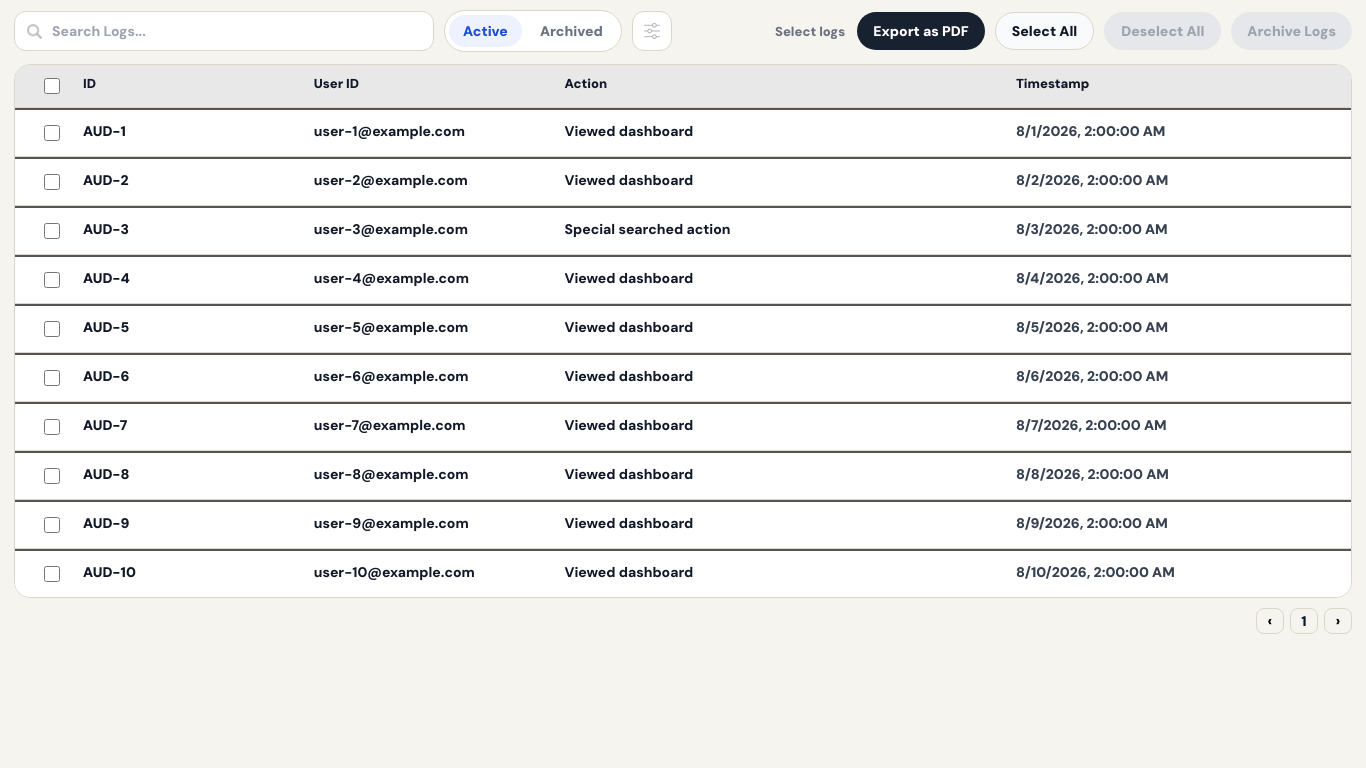
it: AdminAuditLogs selection › Deselect All clears active selections across pages
The width and height of the screenshot is (1366, 768).
What coordinates should you click on to do the following:
click the checkbox named "Select audit log AUD-1"
I would click on:
 (52, 133)
Its box is [44,125,60,141].
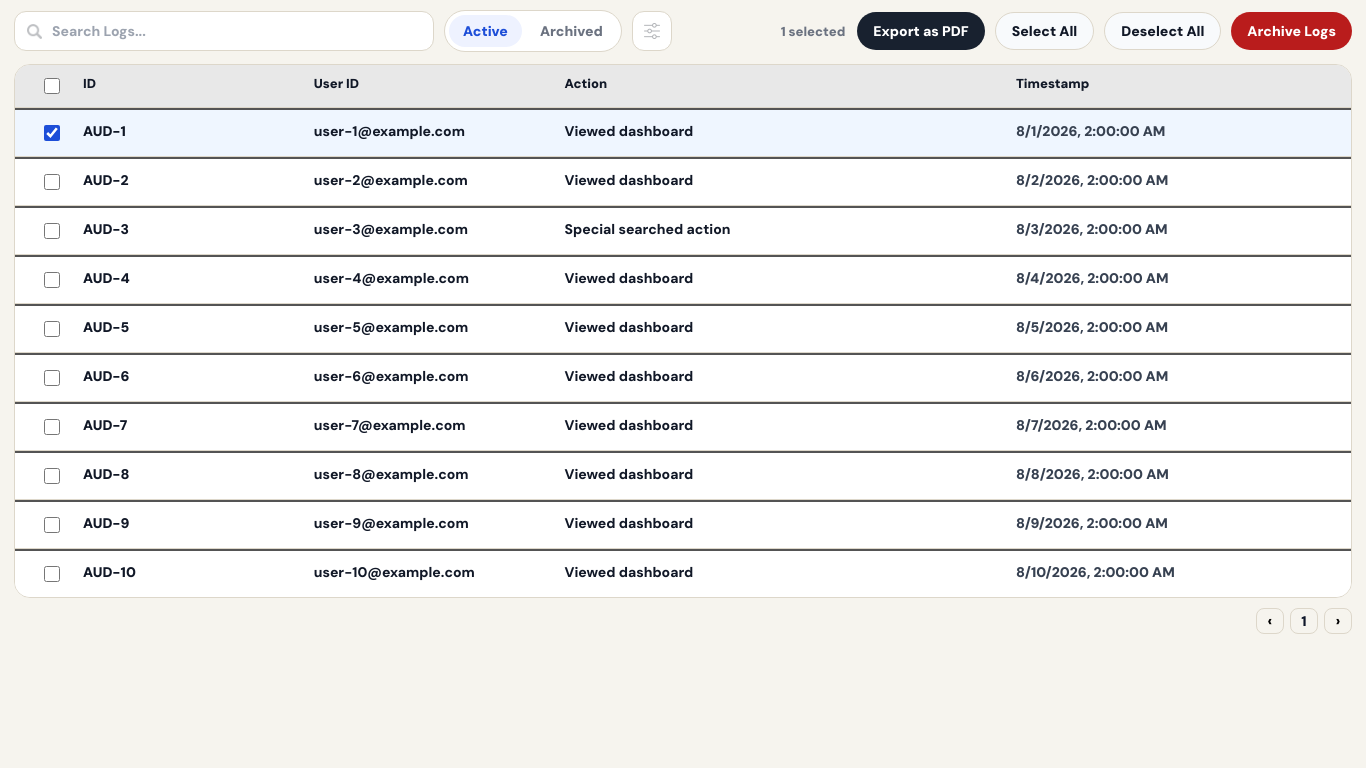
What coordinates should you click on to do the following:
click the button "›"
I would click on:
 (1338, 621)
Its box is [1324,608,1352,634].
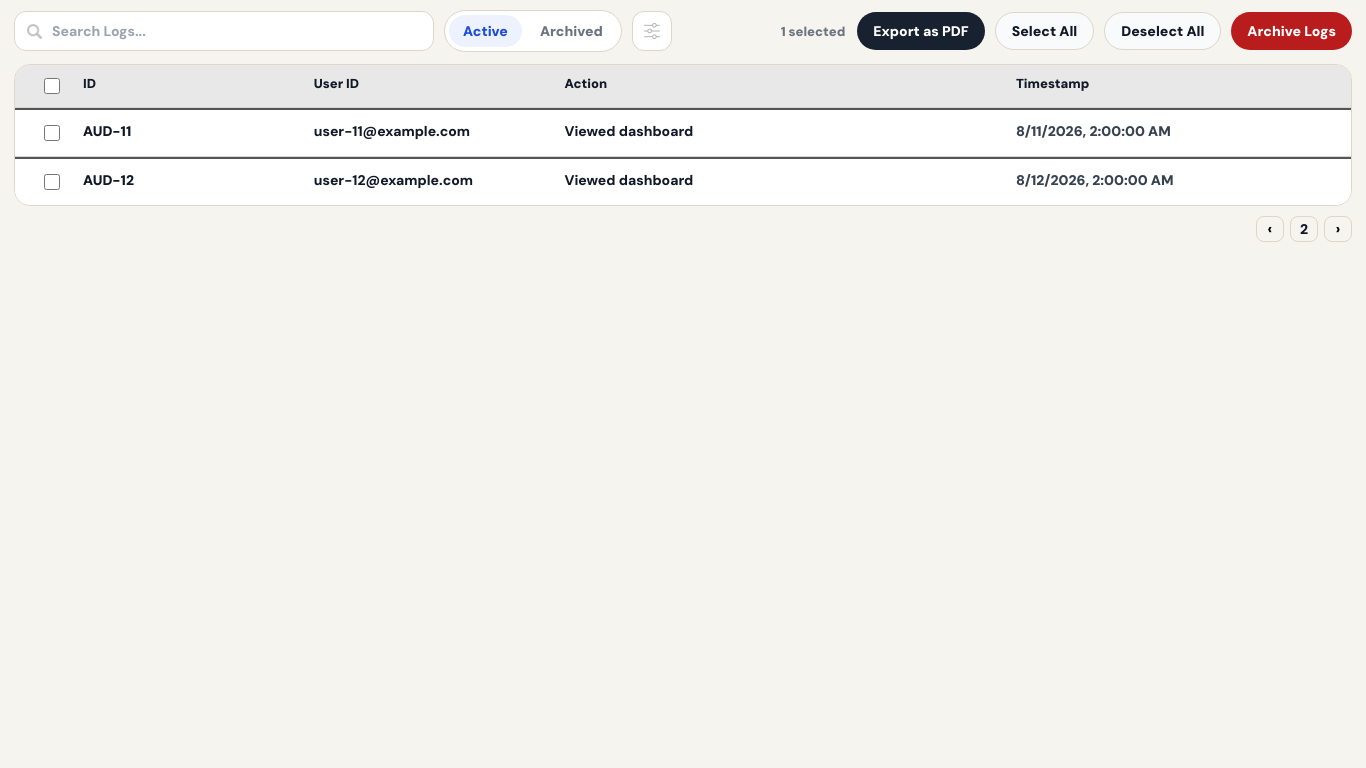
What coordinates should you click on to do the following:
click the checkbox named "Select audit log AUD-11"
I would click on:
 (52, 133)
Its box is [44,125,60,141].
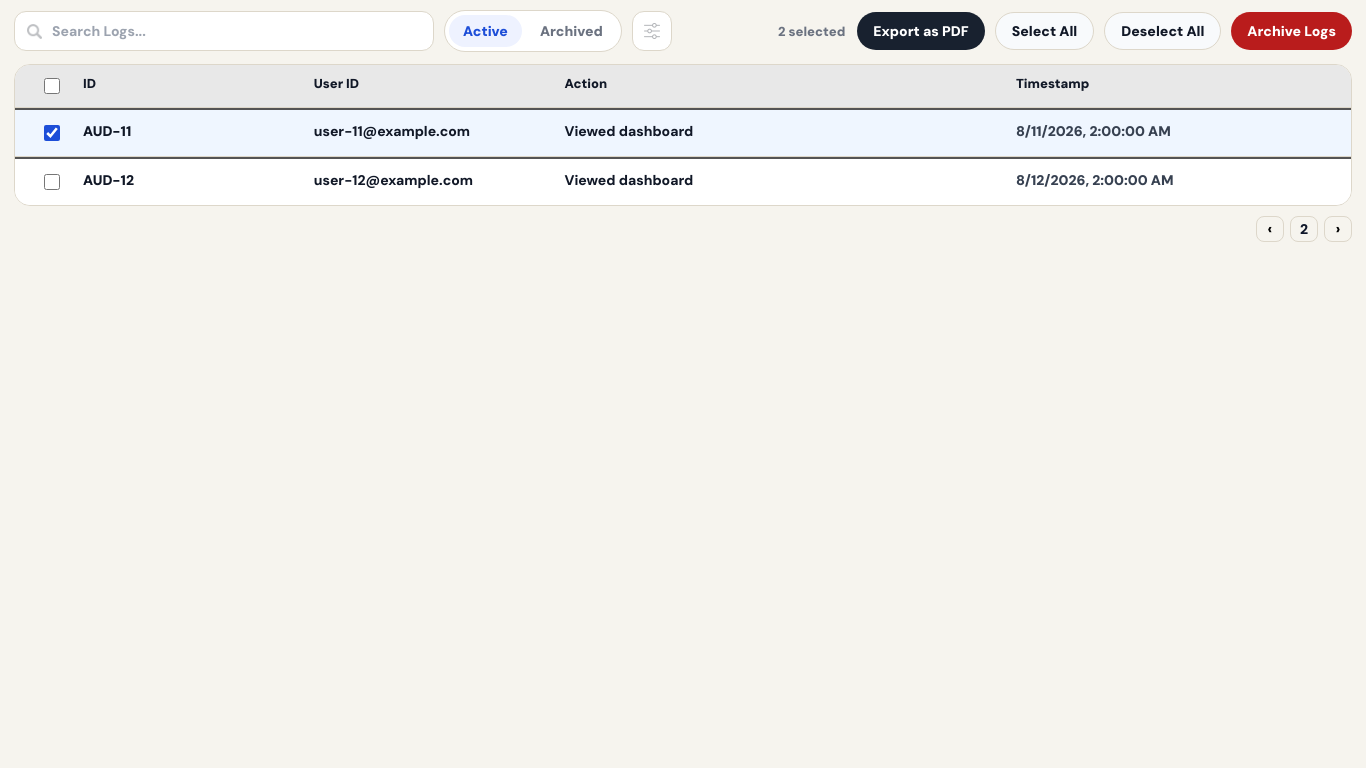
Check: the text "2 selected" is shown, box [778,22,845,40]
What coordinates should you click on to do the following:
click the button "Deselect All"
I would click on:
 (1163, 31)
Its box is [1104,12,1221,50].
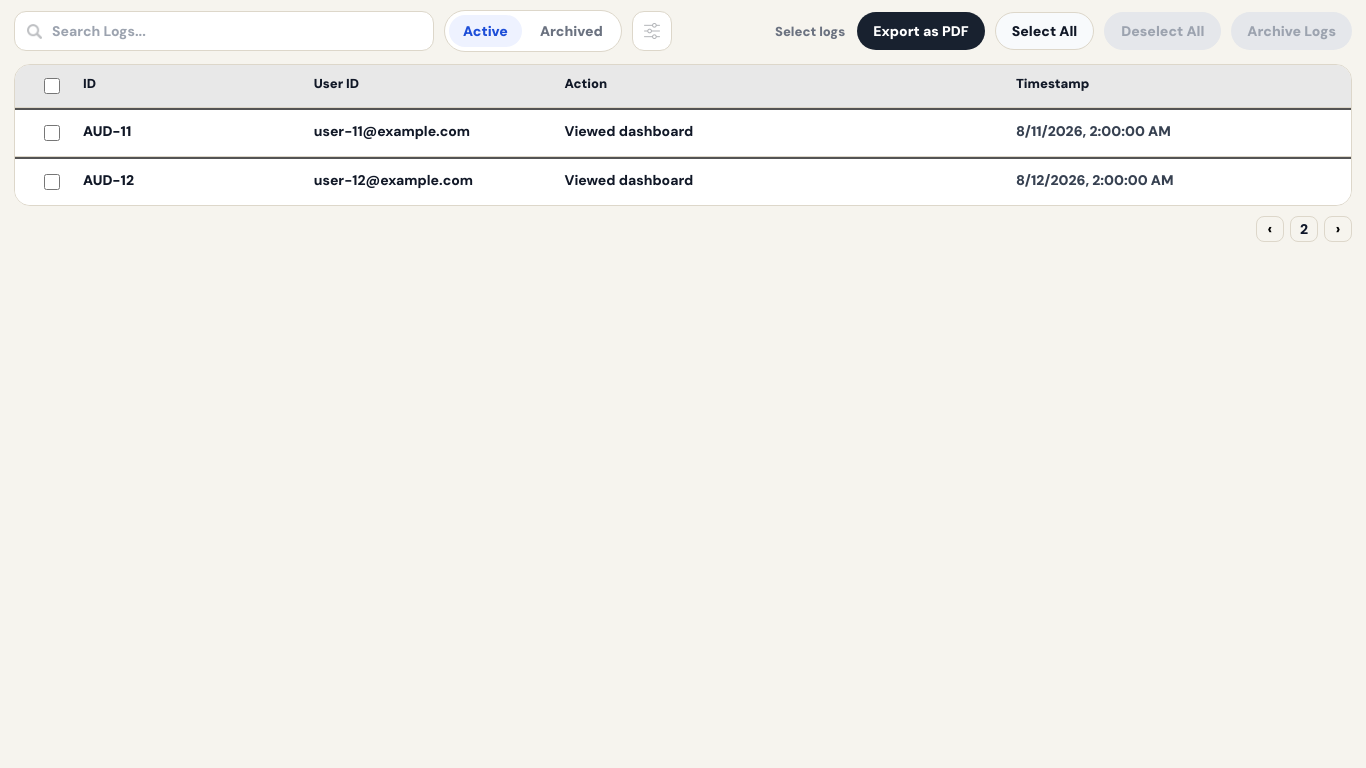
Check: the checkbox named "Select audit log AUD-11" is not checked, box [44,125,60,141]
Check: the text "Select logs" is shown, box [775,22,845,40]
Check: the button "Archive Logs" is disabled, box [1231,12,1352,50]
